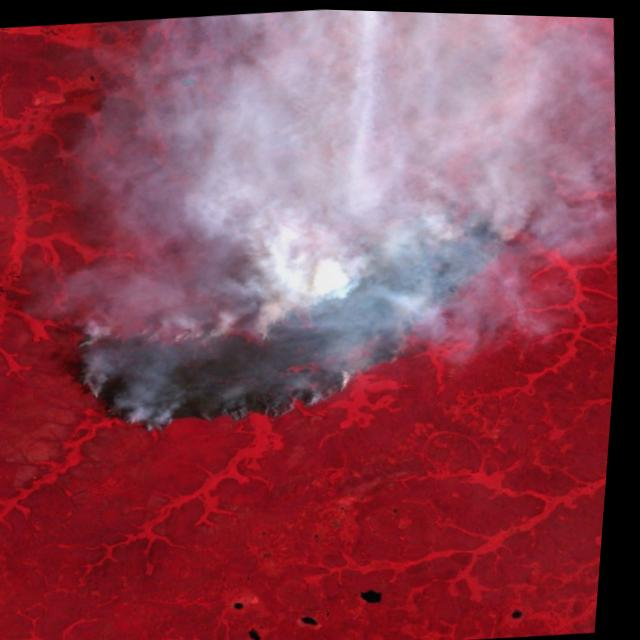fire: (57, 182, 531, 447)
